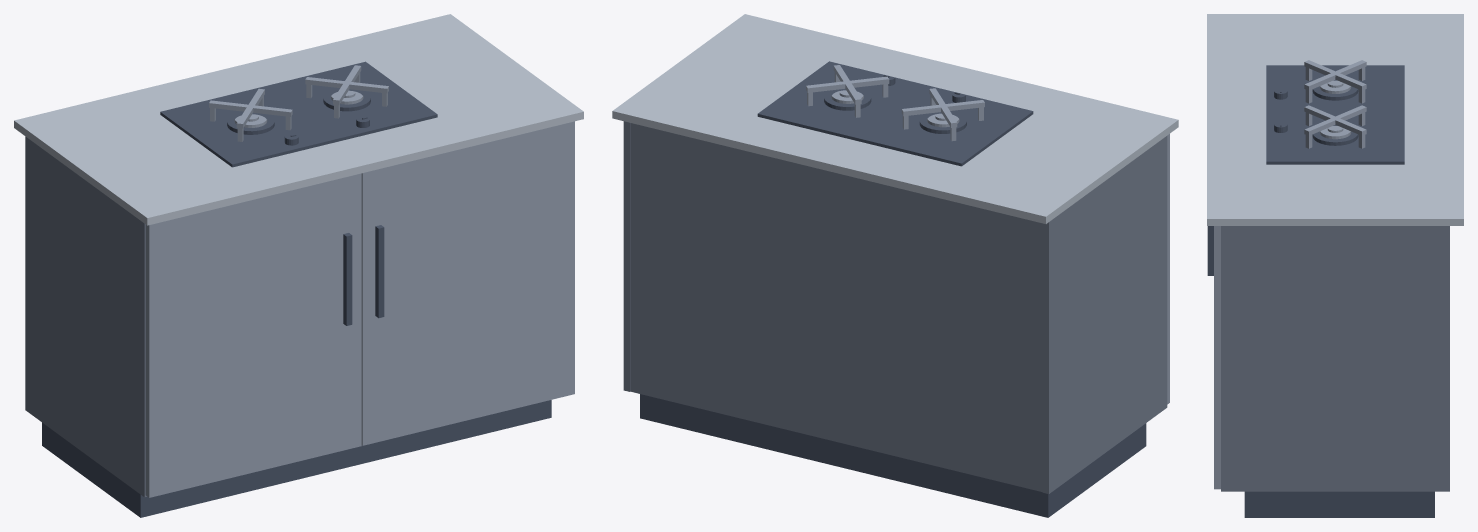
File: 地柜带燃气灶.glb
3 views of the same model, side by side, from view 1: azimuth 30°, elevation 25°; view 2: azimuth 150°, elevation 25°; view 3: azimuth 270°, elevation 25° (orthographic). The views are drawn at different scales.
Parts seen in each view (by area): view 1: kitchencooktop-door, kitchencooktop-top, kitchencooktop-body, kitchencooktop-cooktop, kitchencooktop-base, kitchencooktop-metal-2, kitchencooktop-metal-3; view 2: kitchencooktop-body, kitchencooktop-top, kitchencooktop-base, kitchencooktop-cooktop, kitchencooktop-metal-2, kitchencooktop-door; view 3: kitchencooktop-body, kitchencooktop-top, kitchencooktop-cooktop, kitchencooktop-base, kitchencooktop-metal-2, kitchencooktop-door, kitchencooktop-metal, kitchencooktop-metal-3.
Part boxes in pixels (x1,y1,x2,y2): kitchencooktop-door: [145, 121, 574, 497]; kitchencooktop-top: [14, 14, 583, 225]; kitchencooktop-body: [25, 136, 146, 497]; kitchencooktop-cooktop: [160, 61, 437, 167]; kitchencooktop-base: [42, 400, 551, 517]; kitchencooktop-metal-2: [209, 65, 388, 141]; kitchencooktop-metal-3: [284, 117, 384, 325]; kitchencooktop-body: [623, 121, 1167, 493]; kitchencooktop-top: [612, 14, 1178, 223]; kitchencooktop-base: [640, 394, 1146, 517]; kitchencooktop-cooktop: [757, 61, 1033, 166]; kitchencooktop-metal-2: [806, 65, 984, 141]; kitchencooktop-door: [1167, 134, 1169, 404]; kitchencooktop-body: [1221, 226, 1449, 491]; kitchencooktop-top: [1207, 14, 1463, 225]; kitchencooktop-cooktop: [1266, 65, 1404, 164]; kitchencooktop-base: [1244, 491, 1434, 517]; kitchencooktop-metal-2: [1304, 60, 1366, 148]; kitchencooktop-door: [1214, 226, 1220, 489]; kitchencooktop-metal: [1312, 86, 1358, 145]; kitchencooktop-metal-3: [1207, 89, 1287, 275].
Size of the model in its own units: 1.22 by 0.9075 by 0.648.
